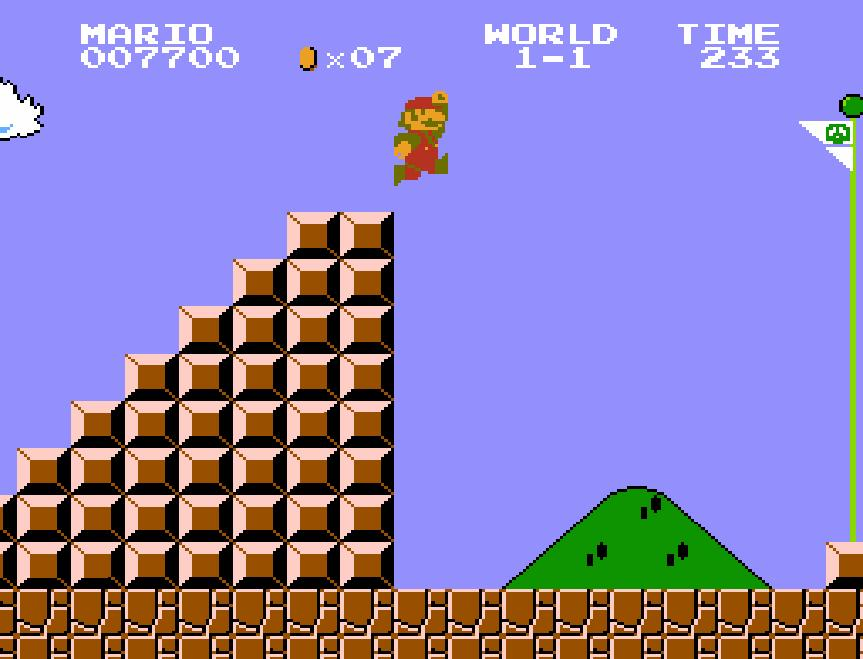big_mario: (392, 88, 450, 186)
